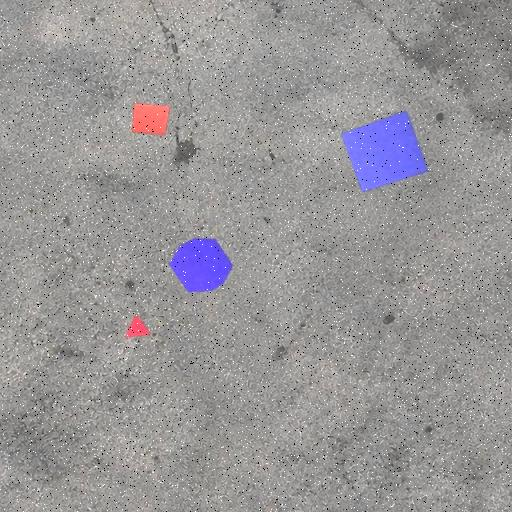BLUE_SQUARE: (340, 110, 430, 193)
RED_SQUARE: (132, 102, 170, 136)
